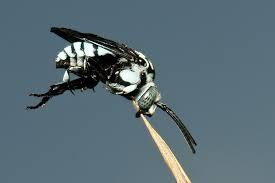Thyreus: (23, 20, 202, 155)
